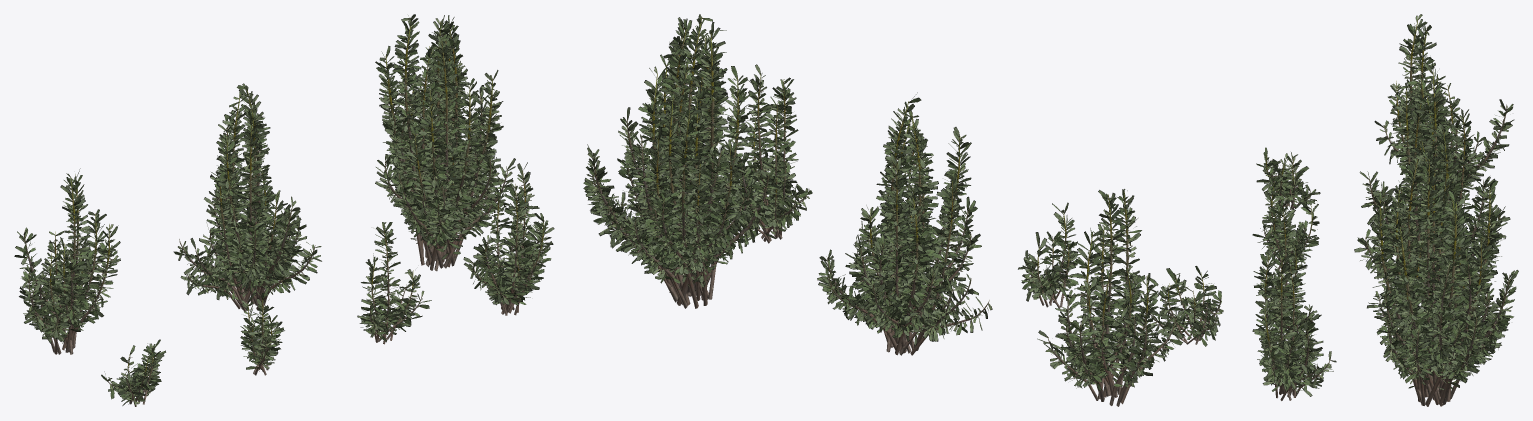
The model's file is othonna_cerarioides.glb.
3 renders of one model, left to right at view 1: azimuth 30°, elevation 25°; view 2: azimuth 150°, elevation 25°; view 3: azimuth 270°, elevation 25°, orthographic. The views are drawn at different scales.
Parts seen in each view (by area): view 1: othonna_cerarioides_a, othonna_cerarioides_b, othonna_cerarioides_c, othonna_cerarioides_d, othonna_cerarioides_e, othonna_cerarioides_f, othonna_cerarioides_g; view 2: othonna_cerarioides_a, othonna_cerarioides_b, othonna_cerarioides_c, othonna_cerarioides_d, othonna_cerarioides_g, othonna_cerarioides_f, othonna_cerarioides_e; view 3: othonna_cerarioides_a, othonna_cerarioides_b, othonna_cerarioides_d, othonna_cerarioides_c, othonna_cerarioides_f, othonna_cerarioides_e, othonna_cerarioides_g.
Boxes of the visible parts, box(x1,y1,x2,y2) form: othonna_cerarioides_a: box(375, 14, 515, 271); othonna_cerarioides_b: box(173, 83, 321, 311); othonna_cerarioides_c: box(14, 168, 120, 354); othonna_cerarioides_d: box(463, 162, 554, 315); othonna_cerarioides_e: box(357, 222, 431, 344); othonna_cerarioides_f: box(240, 287, 284, 375); othonna_cerarioides_g: box(101, 339, 165, 406); othonna_cerarioides_a: box(583, 14, 780, 308); othonna_cerarioides_b: box(817, 92, 992, 355); othonna_cerarioides_c: box(1037, 189, 1183, 406); othonna_cerarioides_d: box(719, 64, 812, 243); othonna_cerarioides_g: box(1142, 266, 1223, 346); othonna_cerarioides_f: box(1018, 202, 1080, 308); othonna_cerarioides_e: box(854, 132, 954, 267); othonna_cerarioides_a: box(1367, 123, 1518, 406); othonna_cerarioides_b: box(1354, 61, 1510, 302); othonna_cerarioides_d: box(1252, 250, 1336, 400); othonna_cerarioides_c: box(1374, 14, 1514, 203); othonna_cerarioides_f: box(1252, 176, 1319, 271); othonna_cerarioides_e: box(1254, 204, 1321, 333); othonna_cerarioides_g: box(1256, 147, 1320, 209).
Bounding box in the file's own units: 3.97 × 1.97 × 1.8.
2 materials, 2 textured.
